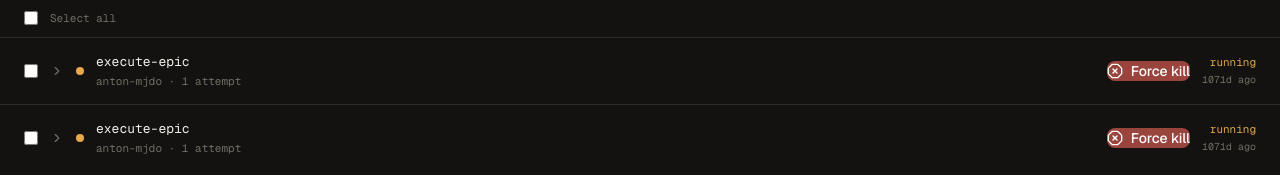
Scenario: JobList row selection › drops the selection when the rendered rows change, so a stale one can't be killed
Click the checkbox labelled "Select all" at (31, 18), box x1=24 y1=11 x2=38 y2=25
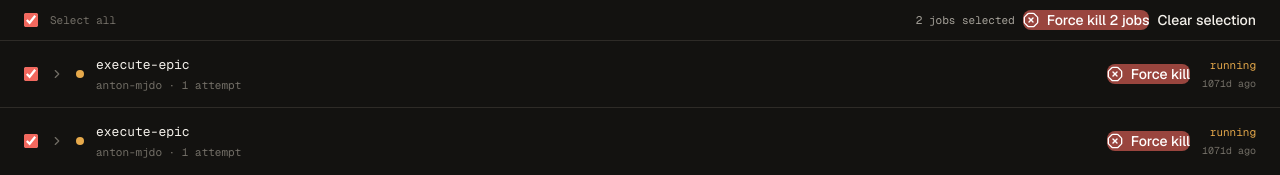
Expected: the text "2 jobs selected" is shown, x1=916 y1=12 x2=1015 y2=28
